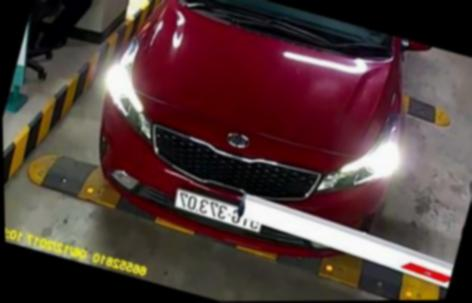License_Plate: (172, 191, 261, 237)
